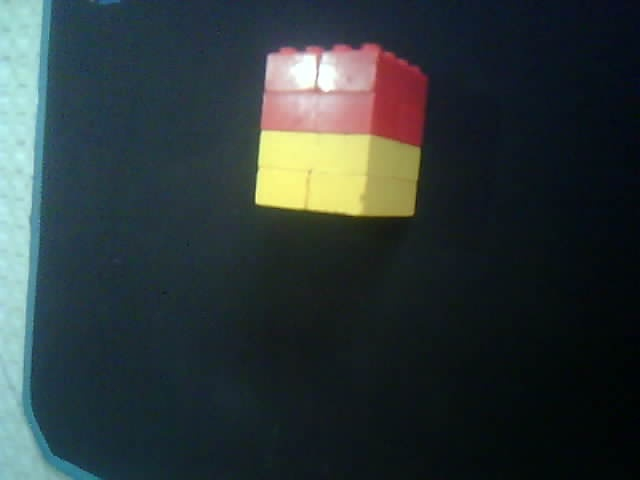lego: (251, 42, 431, 222)
